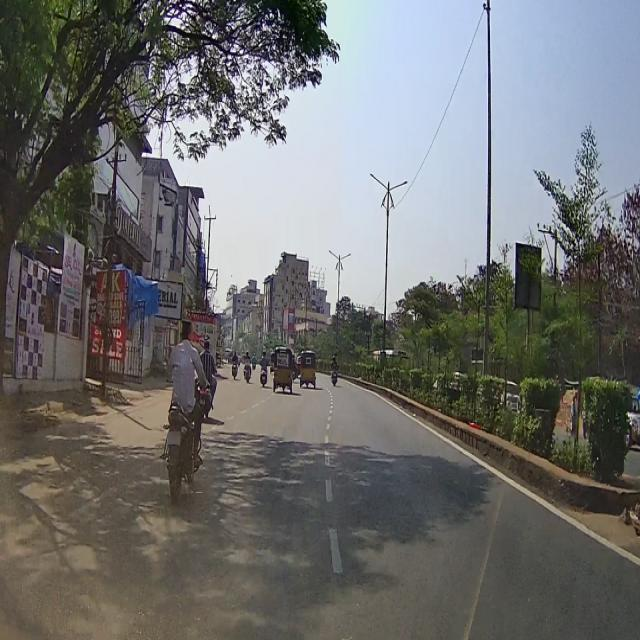motorcycle ahead at: (164, 393, 207, 501)
